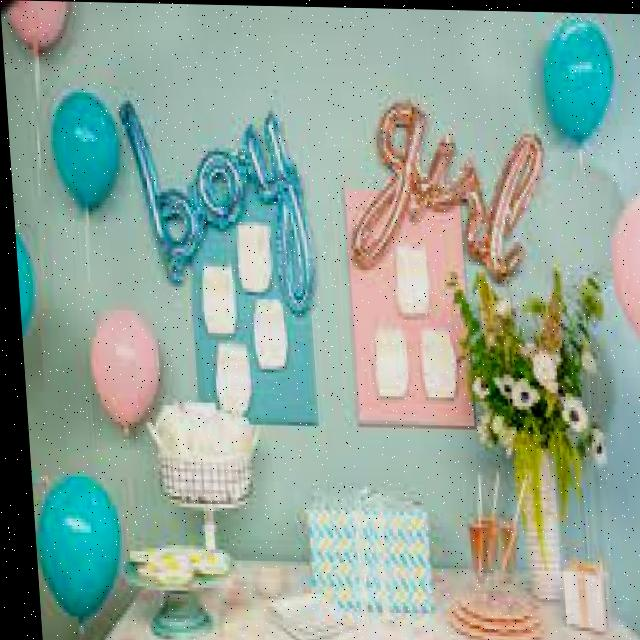balloon: (25, 475, 119, 620), (539, 11, 618, 145), (45, 91, 123, 214), (84, 306, 159, 425), (604, 181, 640, 351), (5, 0, 72, 50), (12, 221, 32, 340)
